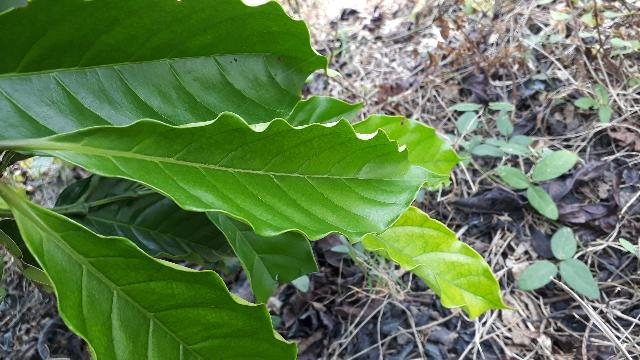healthy: (44, 113, 451, 245)
